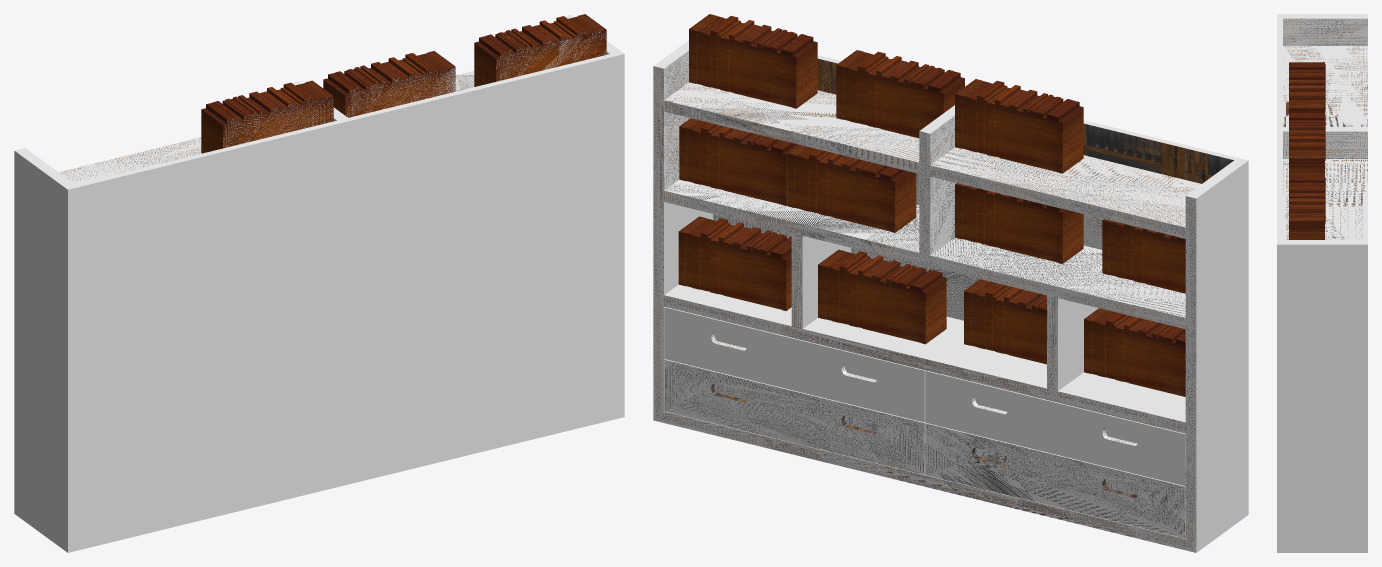
3 views of the same model, side by side, from view 1: azimuth 30°, elevation 25°; view 2: azimuth 150°, elevation 25°; view 3: azimuth 270°, elevation 25° (orthographic). The views are drawn at different scales.
Parts seen in each view (by area): view 1: mesh2_mesh2-geometry, mesh1_mesh1-geometry; view 2: mesh2_mesh2-geometry, mesh1_mesh1-geometry, mesh6_mesh6-geometry, mesh3_mesh3-geometry, mesh4_mesh4-geometry, mesh5_mesh5-geometry; view 3: mesh2_mesh2-geometry, mesh1_mesh1-geometry.
Part boxes in pixels (<box>): mesh2_mesh2-geometry: <box>14,15,624,552</box>; mesh1_mesh1-geometry: <box>201,14,606,153</box>; mesh2_mesh2-geometry: <box>653,40,1248,552</box>; mesh1_mesh1-geometry: <box>678,14,1185,396</box>; mesh6_mesh6-geometry: <box>664,359,925,474</box>; mesh3_mesh3-geometry: <box>664,307,925,422</box>; mesh4_mesh4-geometry: <box>925,370,1185,485</box>; mesh5_mesh5-geometry: <box>925,423,1185,538</box>; mesh2_mesh2-geometry: <box>1277,14,1367,552</box>; mesh1_mesh1-geometry: <box>1289,62,1325,239</box>.
Size of the model in its own units: 0.8237 by 0.5501 by 0.1373.
